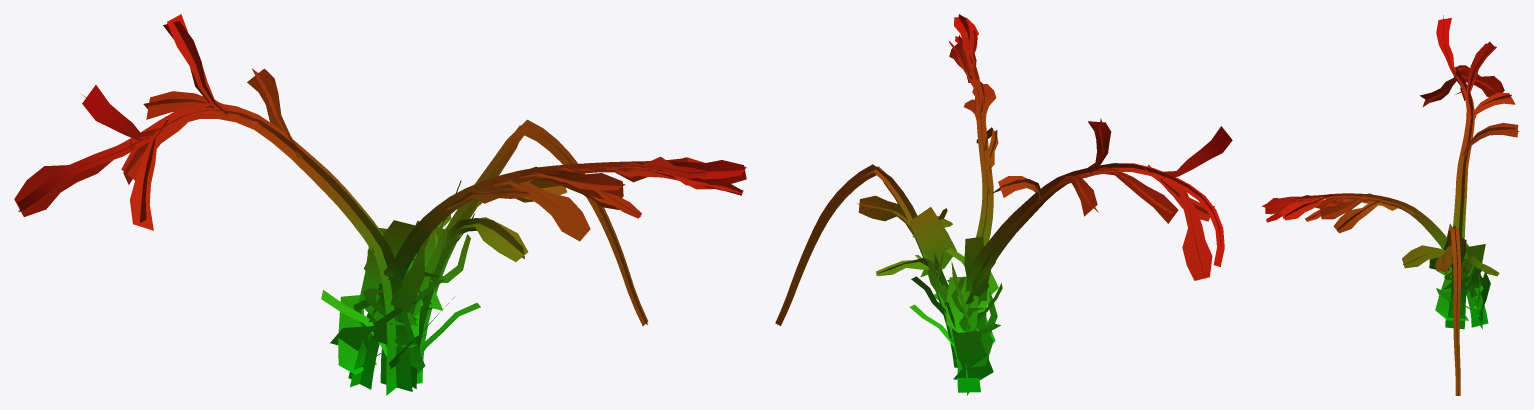
The model's file is Var7_LOD0.fbx.
The picture shows the model from 3 angles, left to right: view 1: azimuth 30°, elevation 25°; view 2: azimuth 150°, elevation 25°; view 3: azimuth 270°, elevation 25°; orthographic projection. The views are drawn at different scales.
Parts seen in each view (by area): view 1: _4489_Var7_LOD0; view 2: _4489_Var7_LOD0; view 3: _4489_Var7_LOD0.
Boxes of the visible parts, <box> form: _4489_Var7_LOD0: <box>14,14,746,395</box>; _4489_Var7_LOD0: <box>775,14,1232,395</box>; _4489_Var7_LOD0: <box>1262,15,1518,395</box>.
Size of the model in its own units: 65.95 by 42.15 by 42.21.
